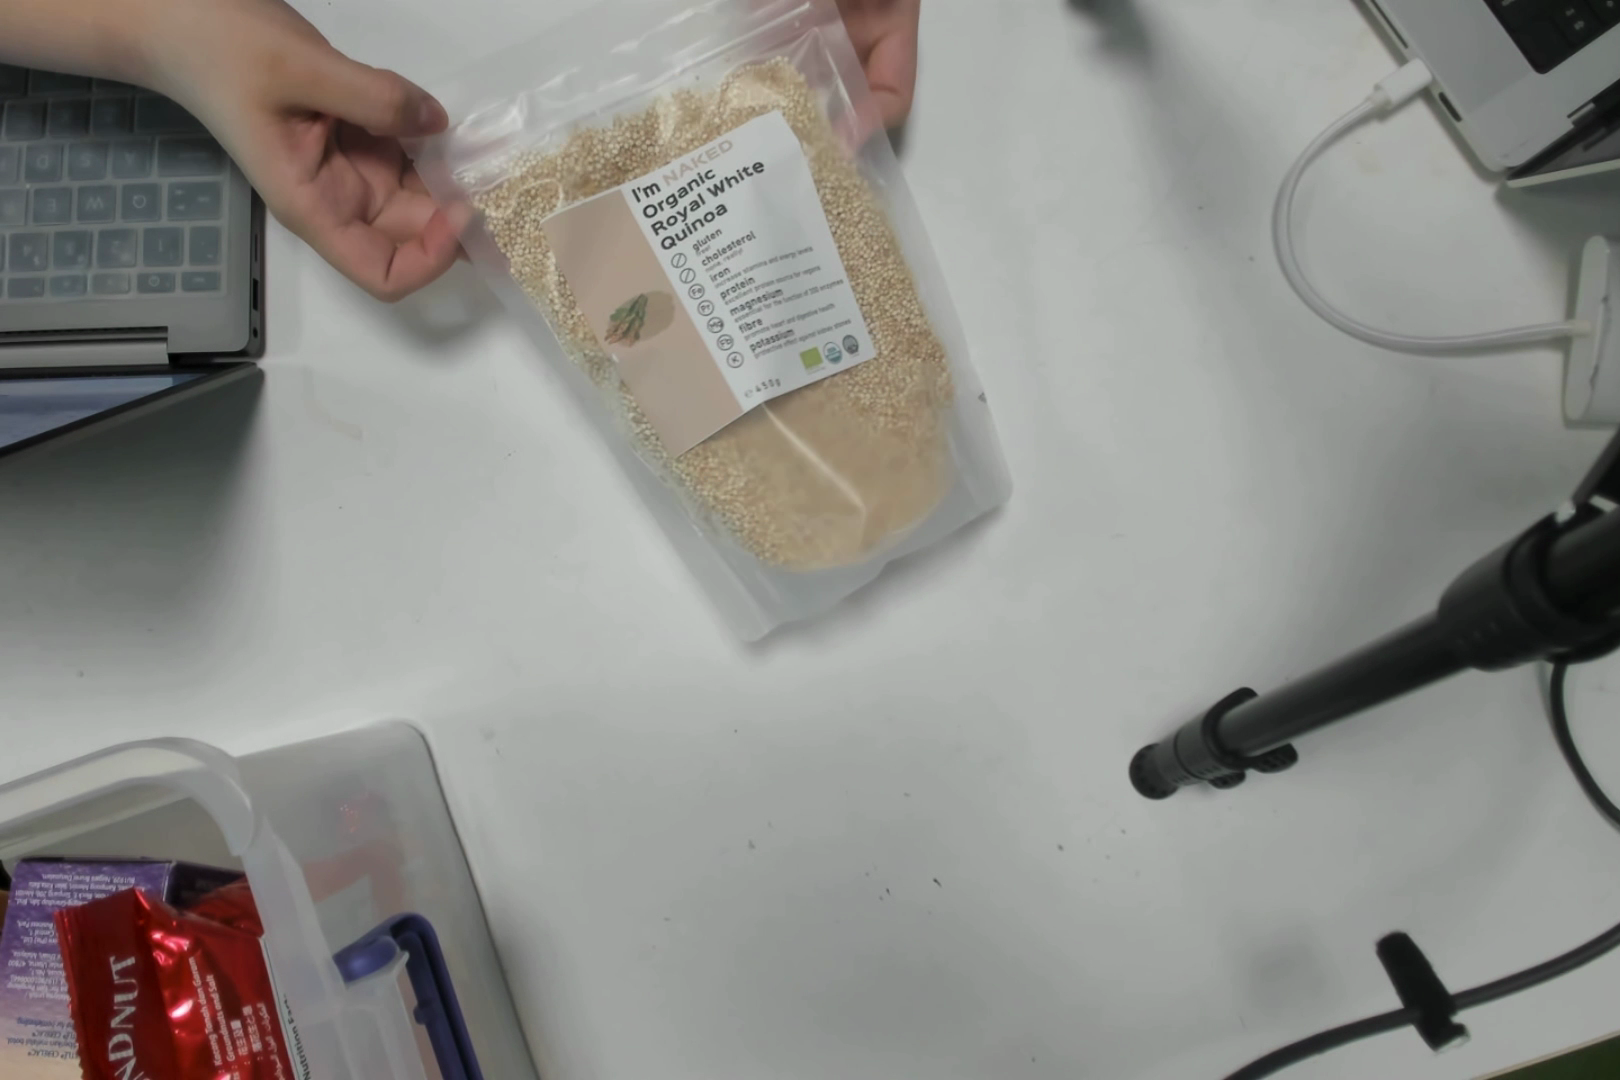Rice(brown-others)_400-499g_Halal_NonHealthy: (568, 102, 993, 579)
